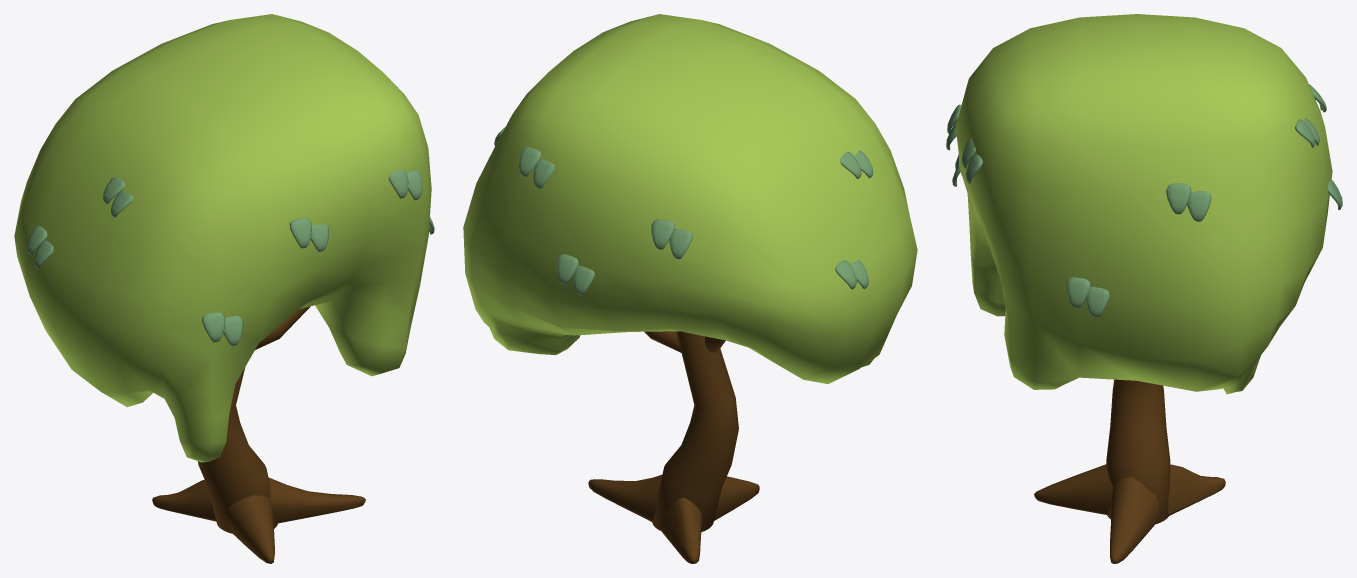
File: tree12.fbx
The picture shows the model from 3 angles, left to right: view 1: azimuth 30°, elevation 25°; view 2: azimuth 150°, elevation 25°; view 3: azimuth 270°, elevation 25°; orthographic projection. The views are drawn at different scales.
Parts seen in each view (by area): view 1: tree12; view 2: tree12; view 3: tree12.
Boxes of the visible parts, x1,y1,x2,y2 form: tree12: (14,14,434,563); tree12: (463,14,917,563); tree12: (946,14,1342,563).
Bounding box in the file's own units: 748 × 901 × 666.
